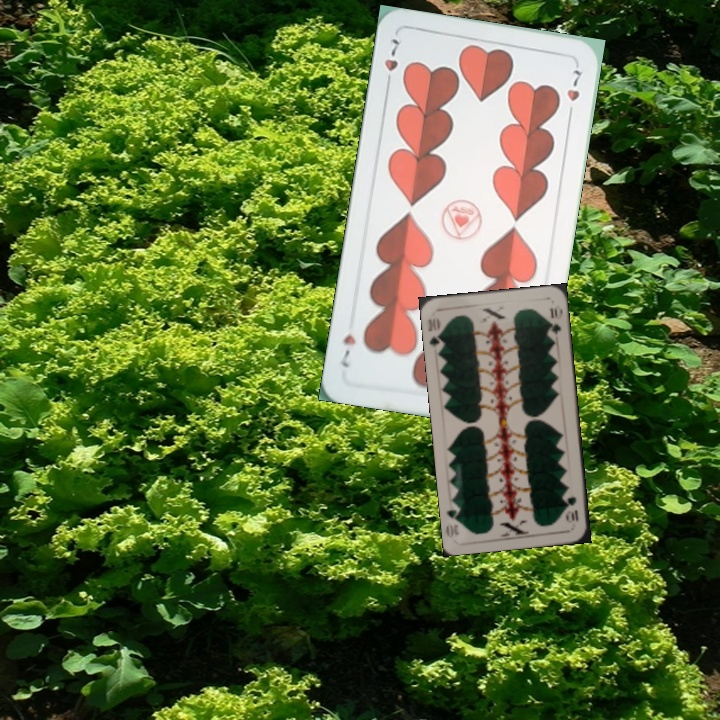G10: (424, 314, 446, 351), (563, 493, 581, 525)
H7: (380, 34, 402, 91)
